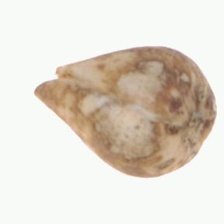L1: (179, 97, 217, 153), (33, 64, 75, 99)
L2: (34, 45, 217, 178)
